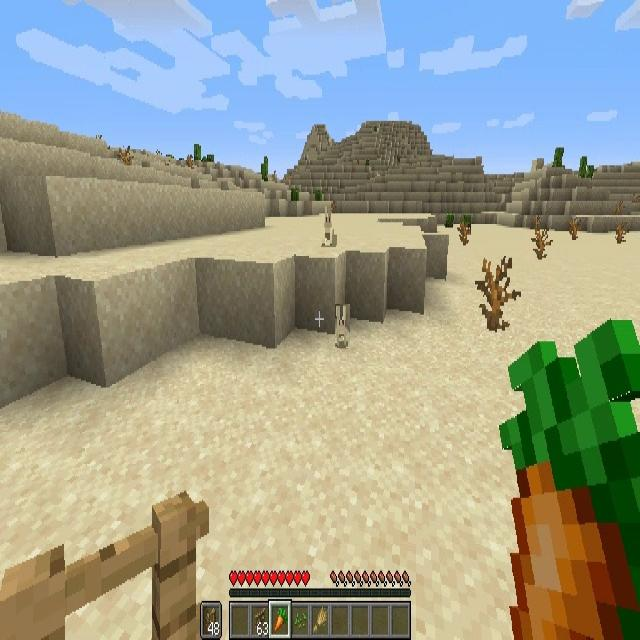rabbit: (335, 304, 350, 348), (320, 206, 335, 248)
